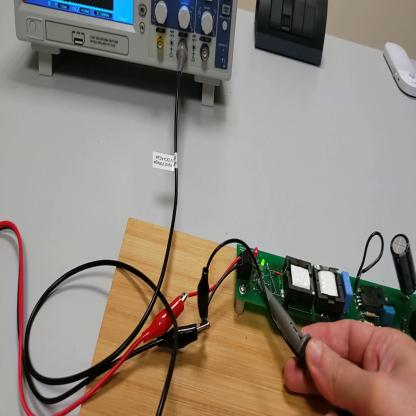hand: (286, 323, 416, 416)
high voltage board: (187, 229, 416, 340)
oscilloscope: (14, 1, 239, 109)
oscilloscope probe tip: (257, 282, 309, 360)
working area: (78, 215, 330, 416)
